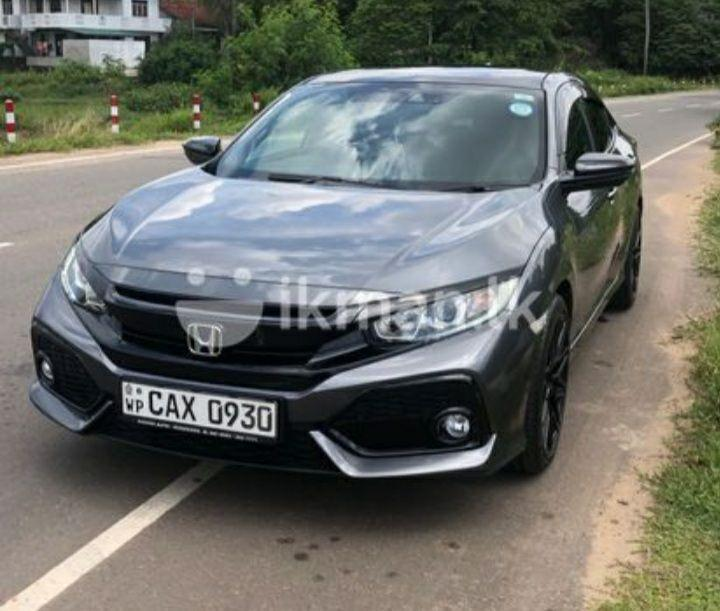license-plate: (117, 377, 276, 441)
